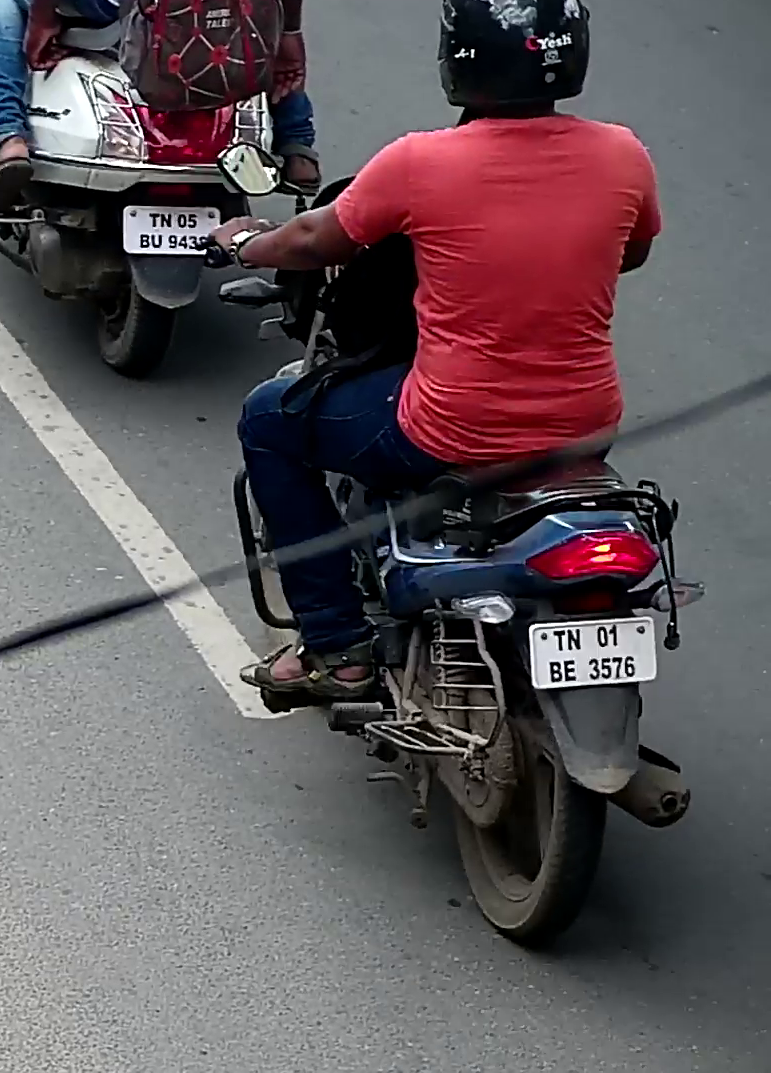0: (596, 626, 608, 648)
1: (608, 623, 619, 648)
3: (588, 658, 600, 680)
5: (601, 657, 612, 679)
6: (624, 655, 635, 677)
7: (612, 656, 623, 679)
B: (548, 661, 563, 683)
E: (563, 659, 577, 682)
N: (566, 628, 581, 651)
P16: (528, 615, 658, 691)
T: (552, 629, 565, 652)
